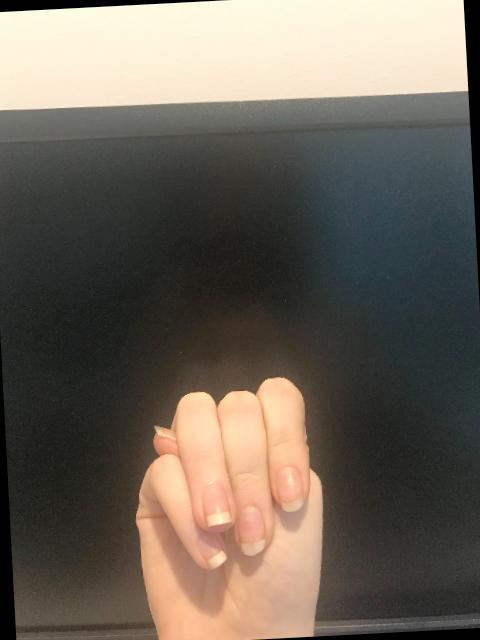M: (120, 370, 338, 640)
